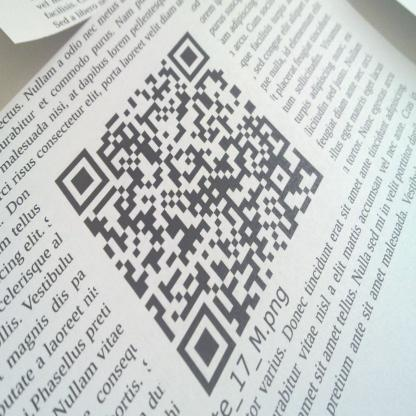qr_code: (54, 30, 325, 399)
